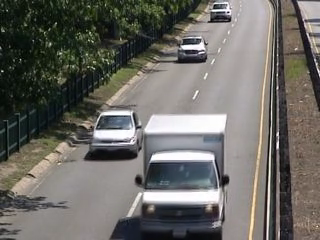car: (90, 104, 147, 159), (172, 34, 210, 63), (209, 2, 232, 25)
truck: (136, 109, 231, 240)
